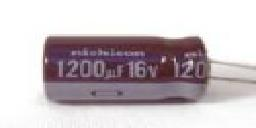Electrolytic Capacitor: (40, 31, 256, 104)
